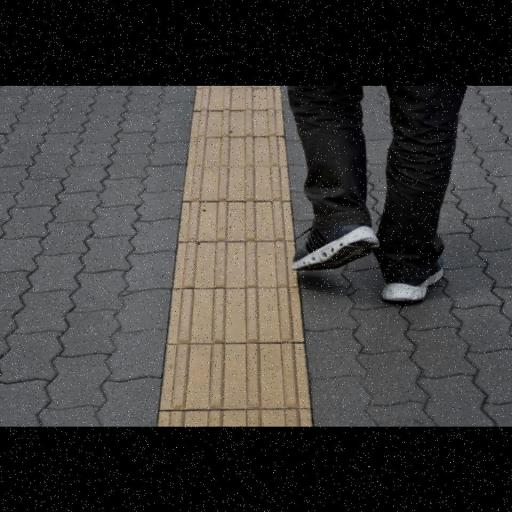line: (157, 343, 312, 412), (163, 287, 301, 344), (171, 239, 294, 292)
